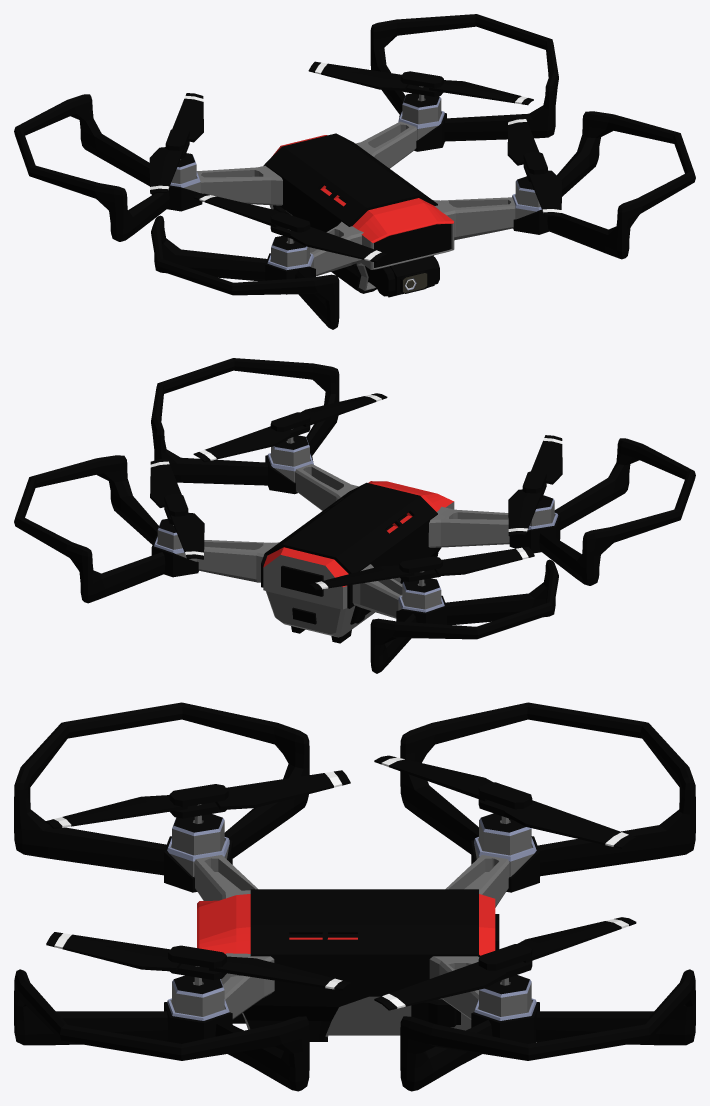
File: dji spark.fbx
The picture shows the model from 3 angles, top to bottom: view 1: azimuth 30°, elevation 25°; view 2: azimuth 150°, elevation 25°; view 3: azimuth 270°, elevation 25°; orthographic projection. The views are drawn at different scales.
Visible parts, largest first — view 1: BODY, RL, FR, FL, RR; view 2: BODY, RR, FL, FR, RL; view 3: BODY, FR, FL, RR, RL.
Boxes of the visible parts, x1,y1,x2,y2 form: BODY: [14, 14, 695, 329]; RL: [308, 61, 533, 105]; FR: [193, 193, 387, 262]; FL: [507, 116, 562, 217]; RR: [149, 93, 203, 193]; BODY: [14, 358, 695, 673]; RR: [309, 546, 534, 590]; FL: [193, 393, 387, 462]; FR: [508, 435, 562, 536]; RL: [150, 458, 204, 559]; BODY: [14, 702, 695, 1091]; FR: [45, 770, 350, 828]; FL: [46, 932, 351, 990]; RR: [374, 755, 636, 848]; RL: [374, 917, 636, 1010].
Bounding box in the file's own units: 0.1888 × 0.0402 × 0.1568.
